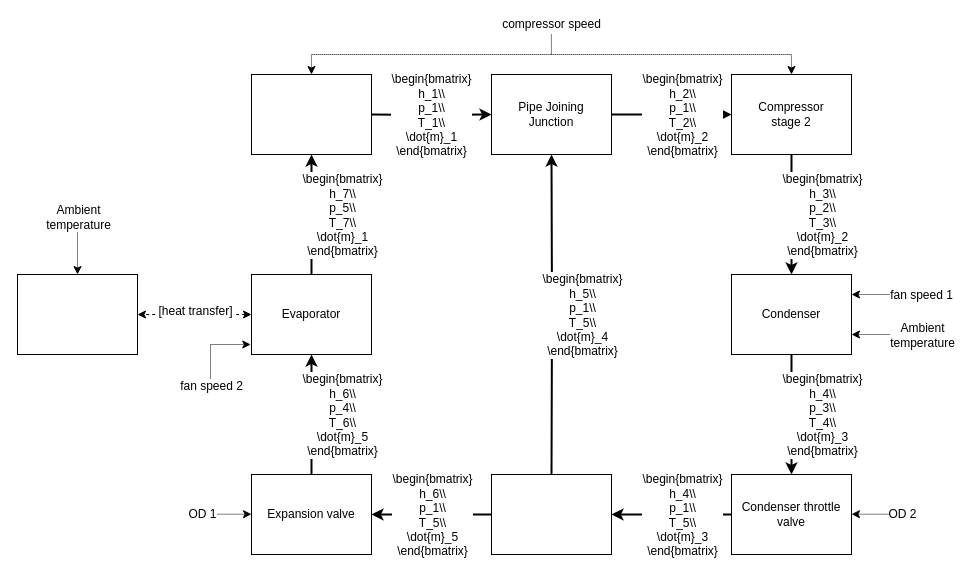
The diagram is 972 pixels wide and 575 high, and some of its shapes have lost their labels. Here are the shapes that lost their labels. From the top down, the centre of each, then its label:
the point at 311,114: Compressor stage 1
the point at 77,314: Box
the point at 551,514: Flash tank
